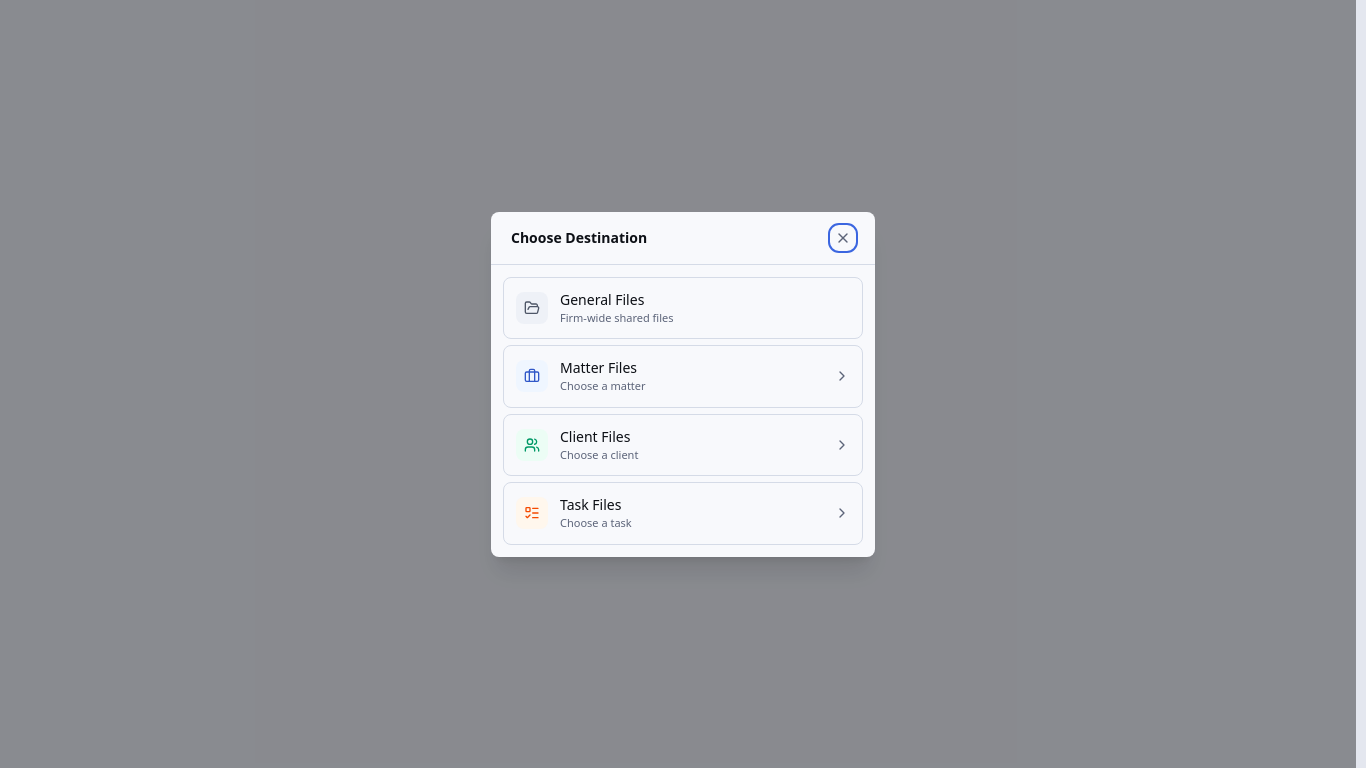
DestinationPickerModal source list › notes that the matter list is capped when the lookup has more
Click the text "Matter Files": {"x": 599, "y": 368} [560, 358, 637, 377]
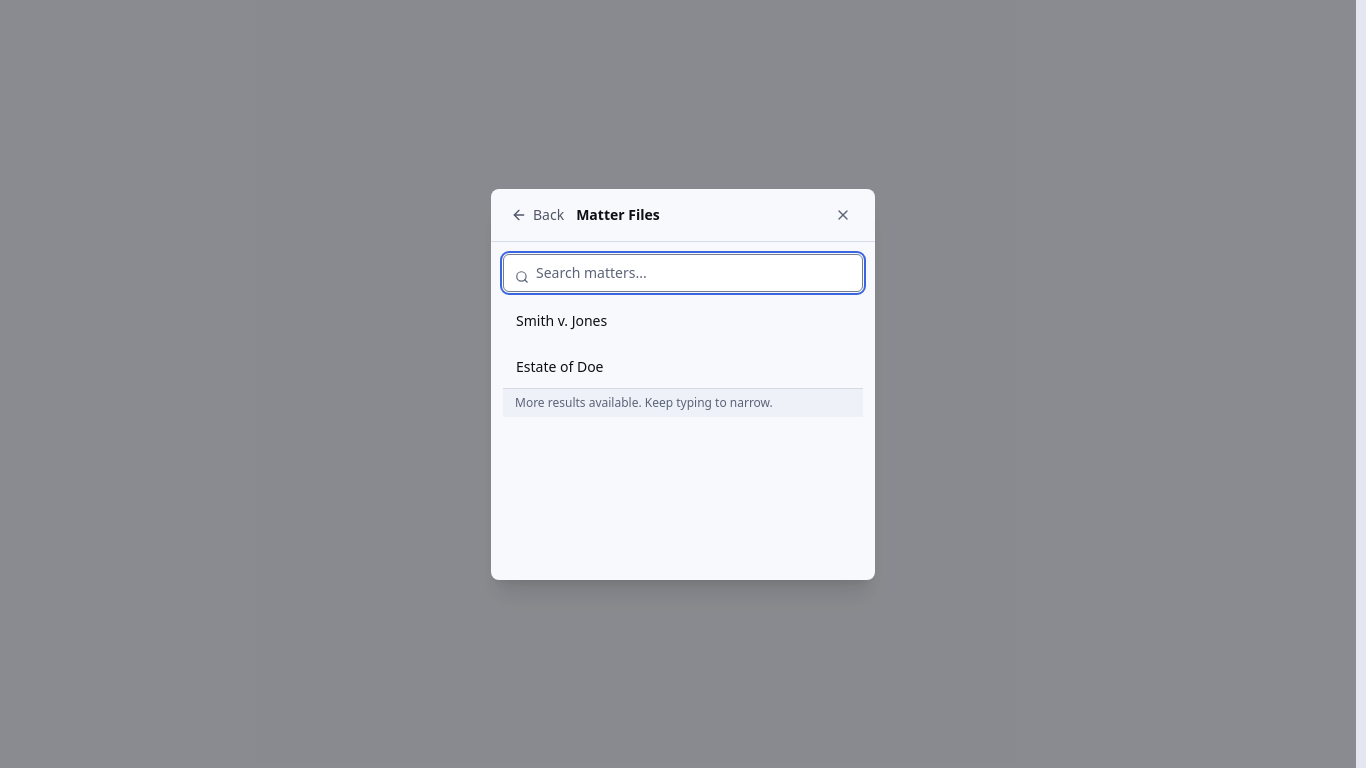
Now the text "More results available. Keep typing to narrow." is shown, box [503, 388, 863, 416]
